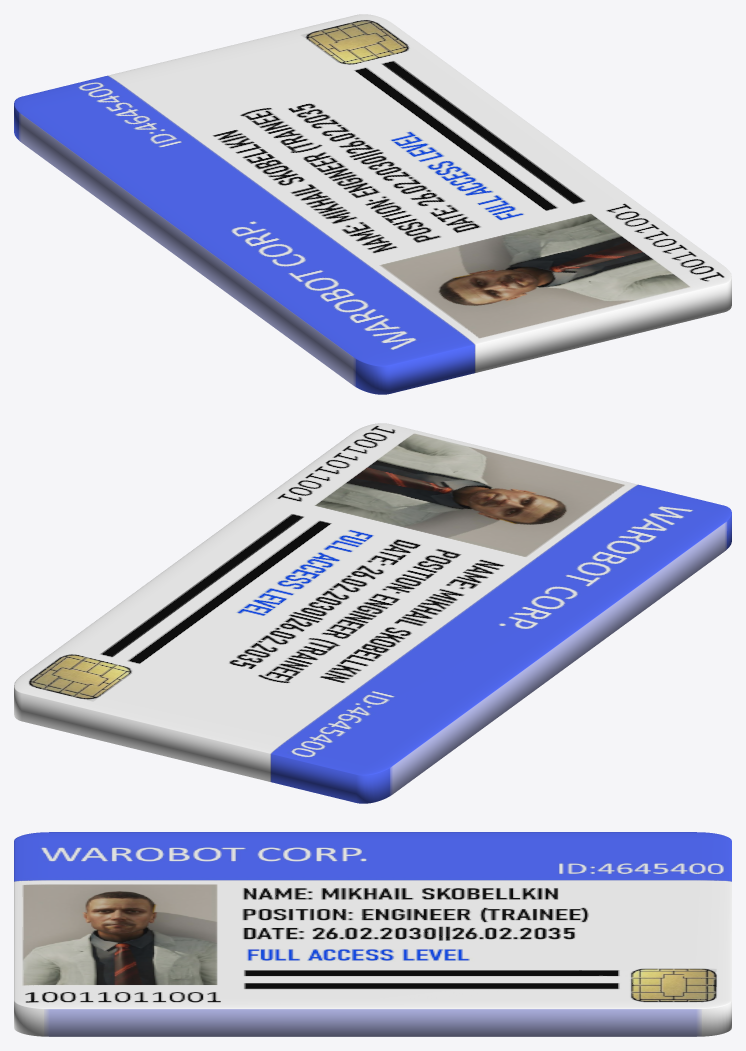
The model's file is SM_ID_Card.fbx.
3 views of the same model, one above another, from view 1: azimuth 30°, elevation 25°; view 2: azimuth 150°, elevation 25°; view 3: azimuth 270°, elevation 25° (orthographic). The views are drawn at different scales.
Visible parts, largest first — view 1: Cube; view 2: Cube; view 3: Cube.
Boxes of the visible parts, left/top/right/bottom form: Cube: left=14, top=14, right=731, bottom=394; Cube: left=14, top=423, right=731, bottom=803; Cube: left=14, top=832, right=731, bottom=1036.
Bounding box in the file's own units: 94.85 × 7.61 × 163.
